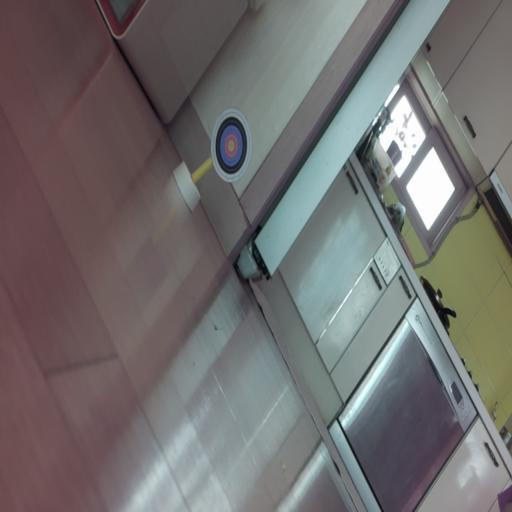target: (211, 110, 251, 181)
